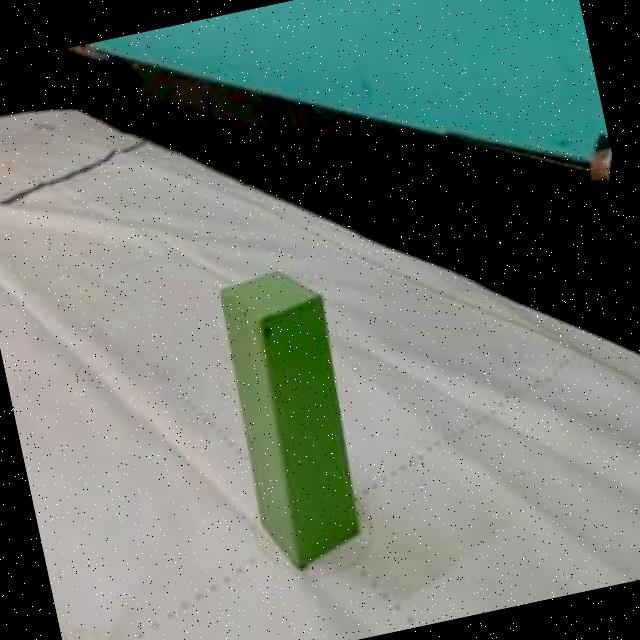greenbox: (208, 260, 379, 582)
